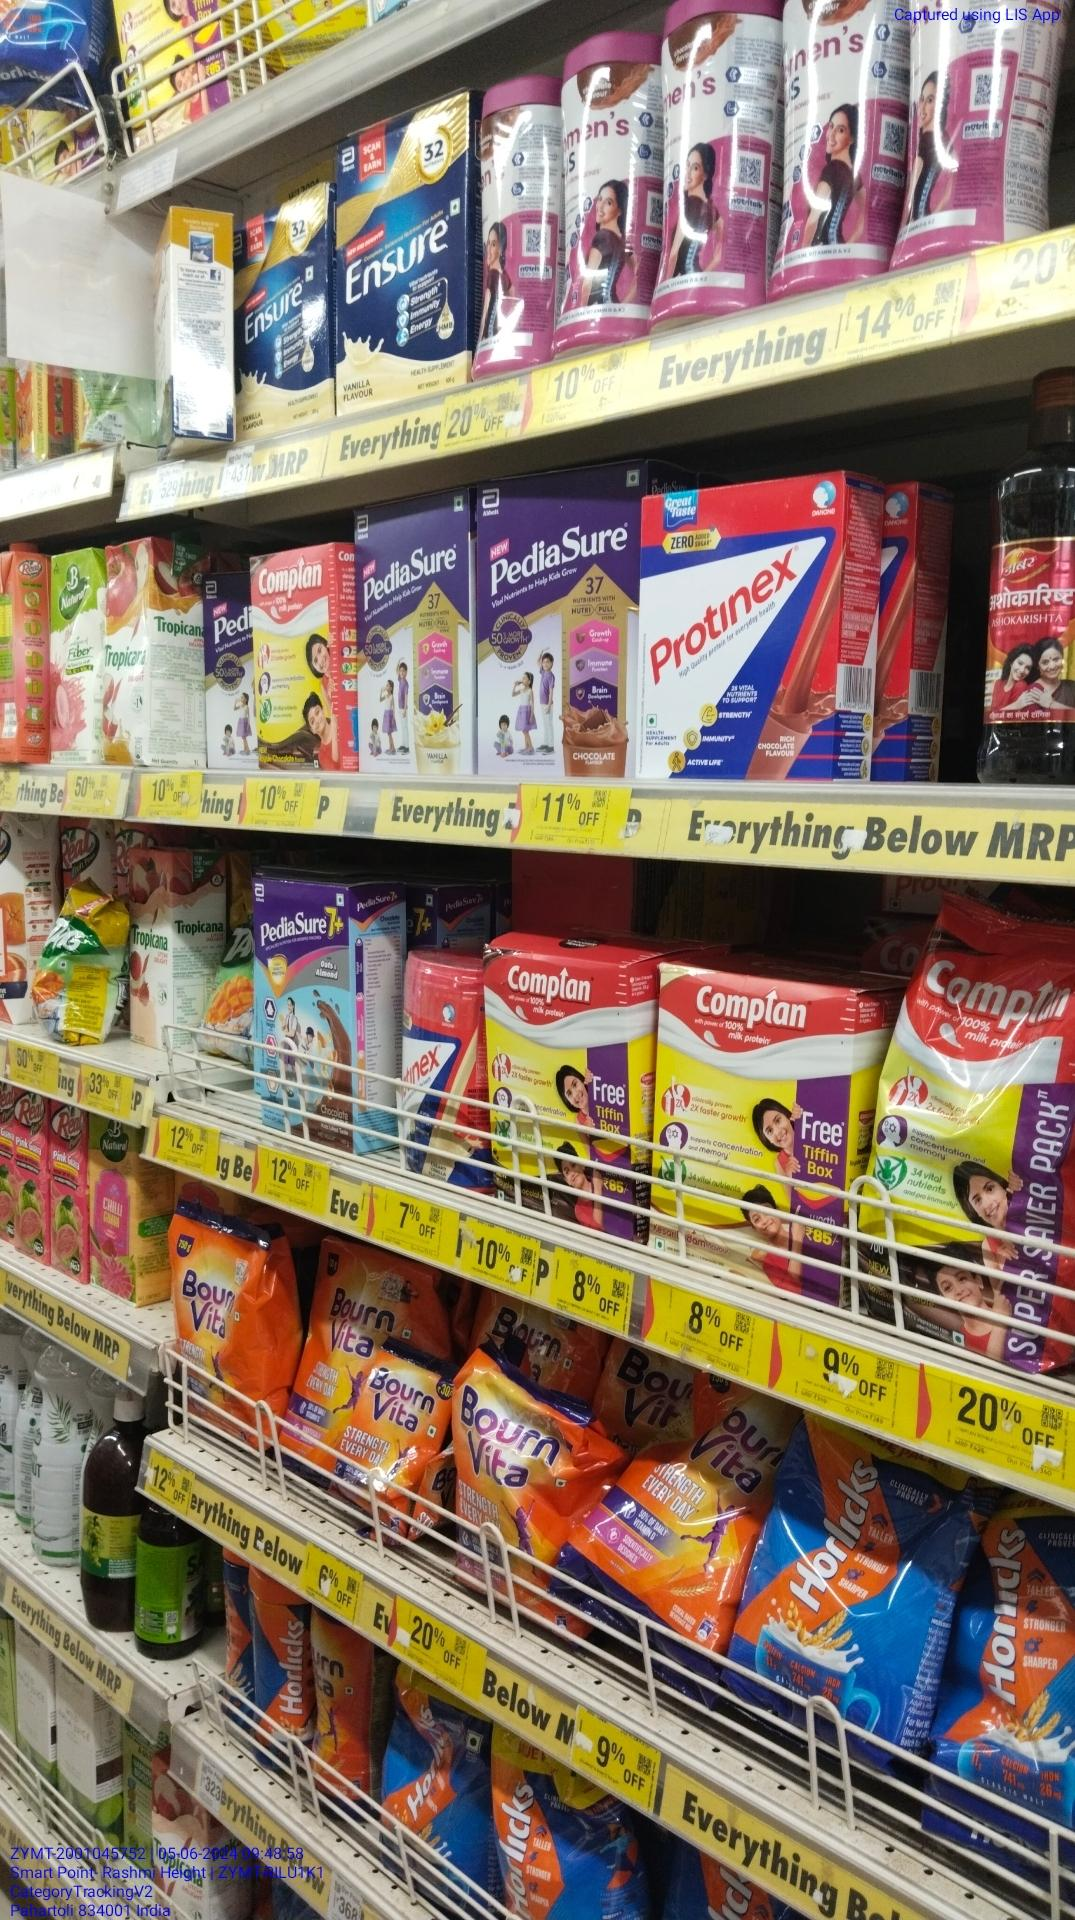BOURN_VITA_75_G_POUCH: (364, 1346, 450, 1544)
ENSURE_VANILLA_400_G_PACK: (336, 91, 470, 417), (237, 160, 330, 450)
PEDIASURE_7_PLUS_CHOCOLATE_400_G_PACK: (255, 876, 357, 1159)
PEDIASURE_CHOCOLATE_500_G_PACK: (479, 471, 632, 782)
PEDIASURE_VANILLA_500_G_PACK: (351, 489, 474, 777)
